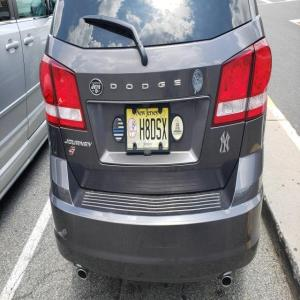Plate: (123, 105, 172, 154)
